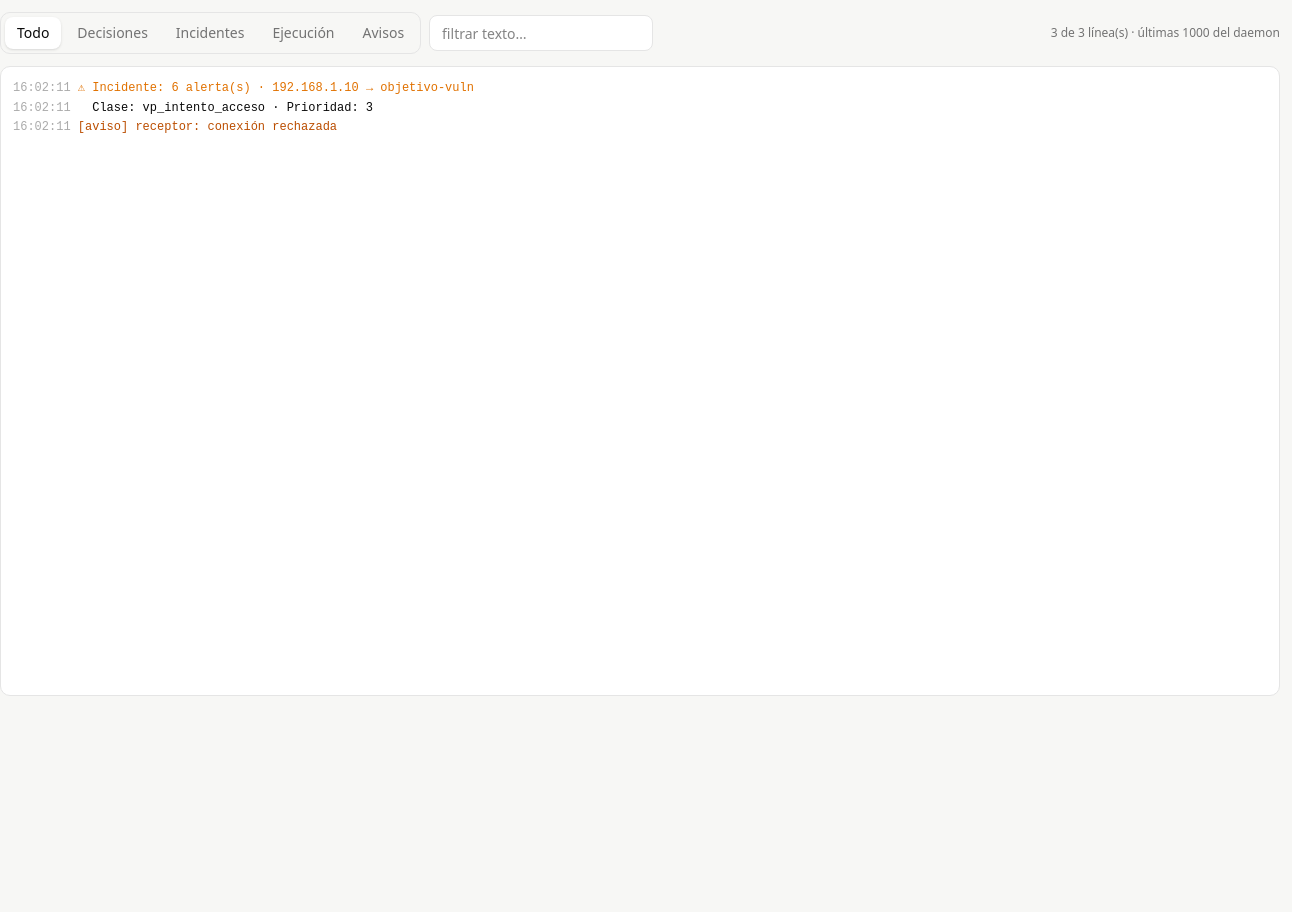
Scenario: Consola › muestra el feed con la hora y filtra por grupo
Expected: the text "Incidente: 6 alerta" is shown, [78,81,474,95]
Expected: the text "16:02:11 [aviso] receptor: conexión rechazada" is shown, [13,120,337,134]
Click the button "Avisos". click: [383, 33]
box: [350,17,416,49]
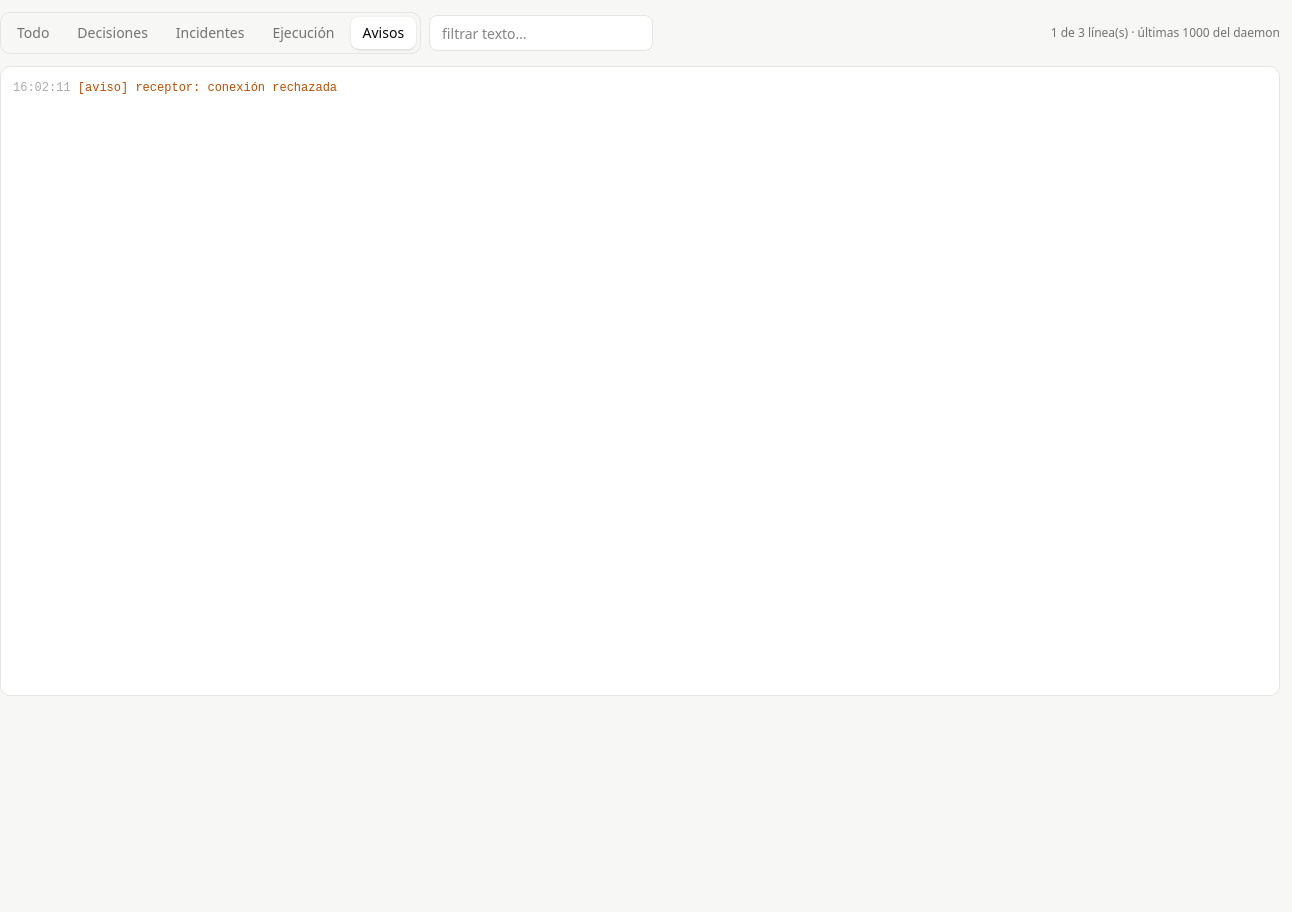
Expected: the text "16:02:11 [aviso] receptor: conexión rechazada" is shown, [13,81,337,95]
Expected: the text "Incidente: 6 alerta" is gone
